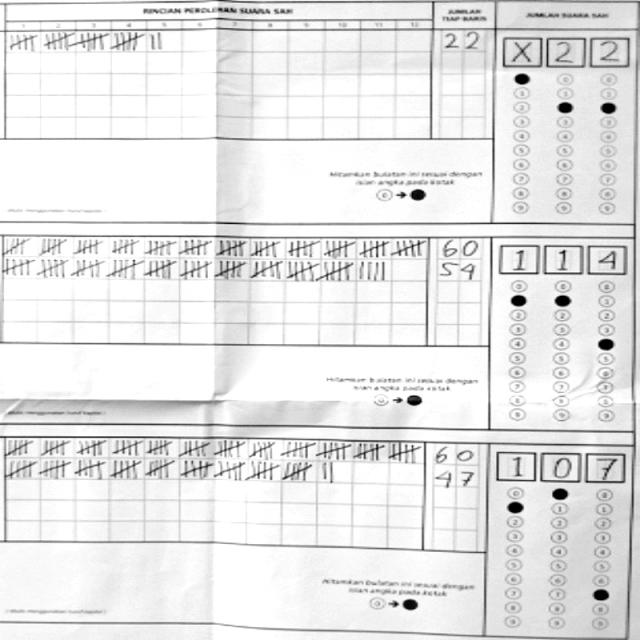Suara: (490, 238, 630, 274), (493, 447, 627, 483), (496, 37, 630, 67)
